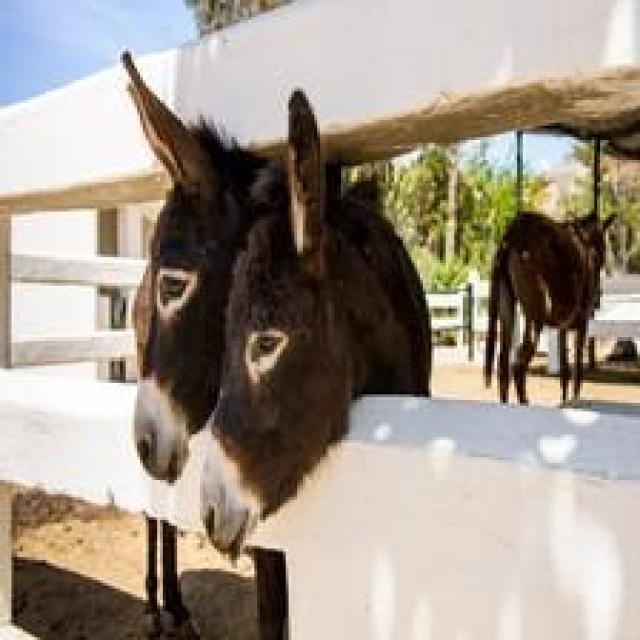Donkey: (120, 49, 431, 637), (117, 49, 274, 637), (480, 208, 617, 403)
